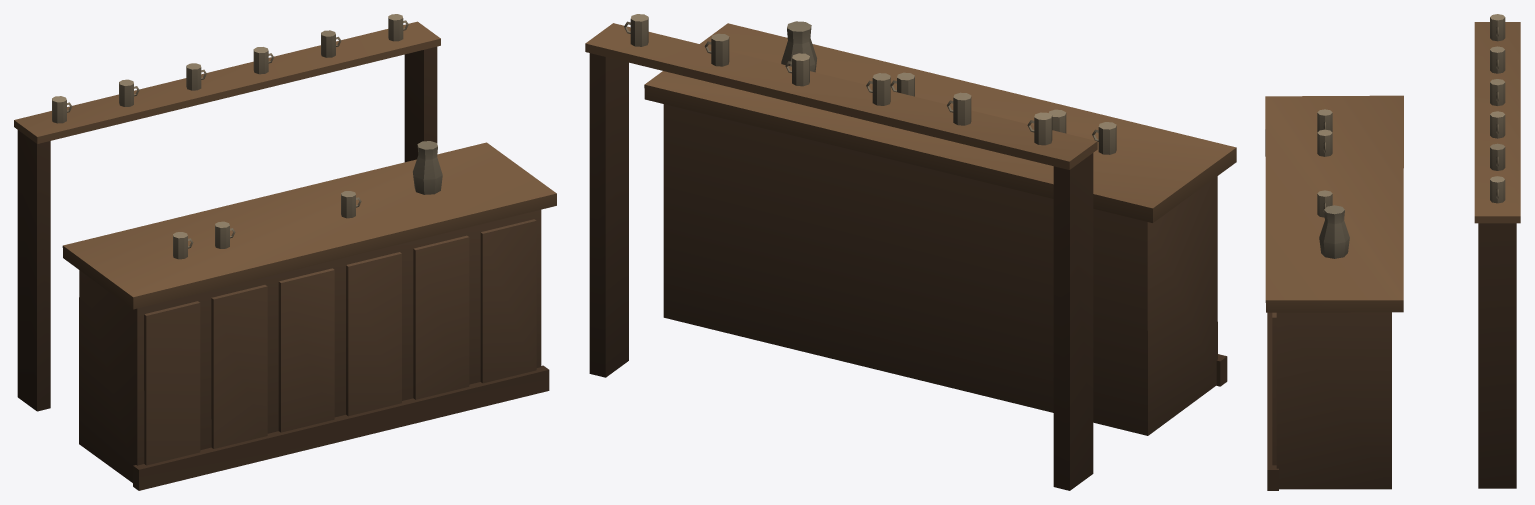
The model's file is ph_int_inn_bar.glb.
The picture shows the model from 3 angles, left to right: view 1: azimuth 30°, elevation 25°; view 2: azimuth 150°, elevation 25°; view 3: azimuth 270°, elevation 25°; orthographic projection. The views are drawn at different scales.
Visible parts, largest first — view 1: ph_int_inn_bar; view 2: ph_int_inn_bar; view 3: ph_int_inn_bar.
Part boxes in pixels (x1,y1,x2,y2): ph_int_inn_bar: (14, 14, 556, 490); ph_int_inn_bar: (585, 14, 1236, 490); ph_int_inn_bar: (1265, 14, 1520, 490).
Size of the model in its own units: 2.52 by 1.69 by 1.33.
